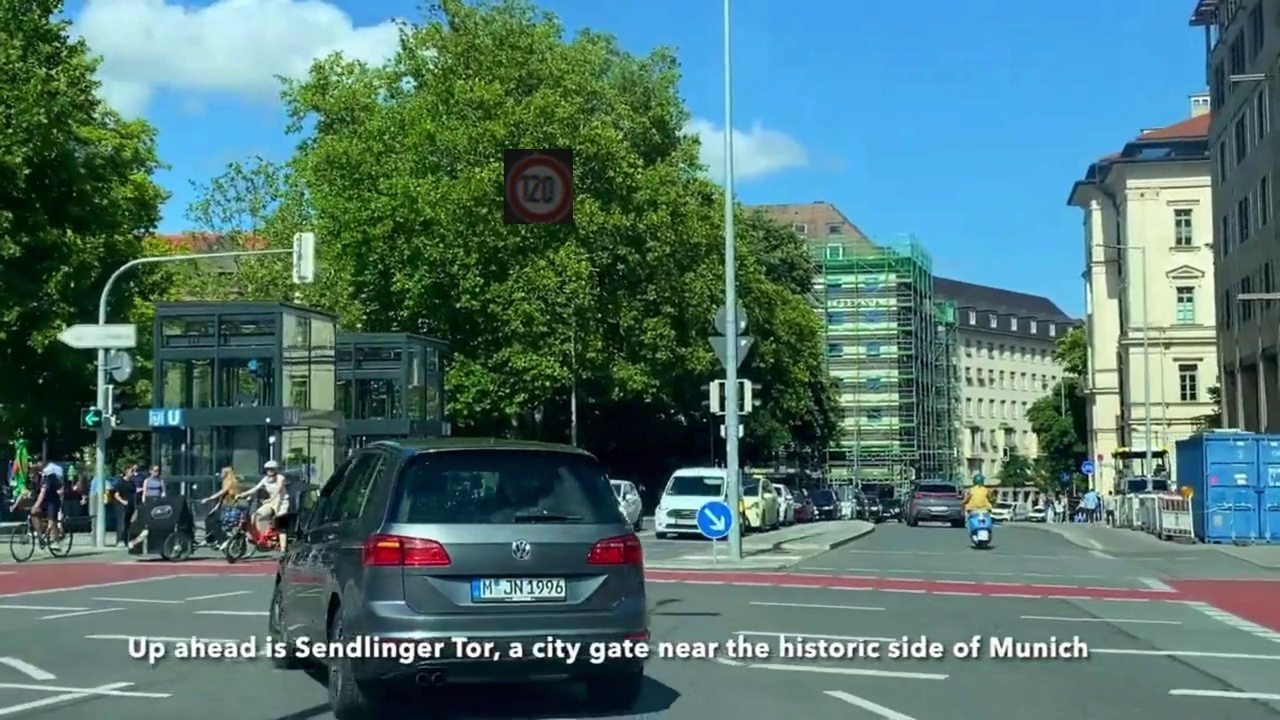Speed 120: (504, 149, 573, 224)
